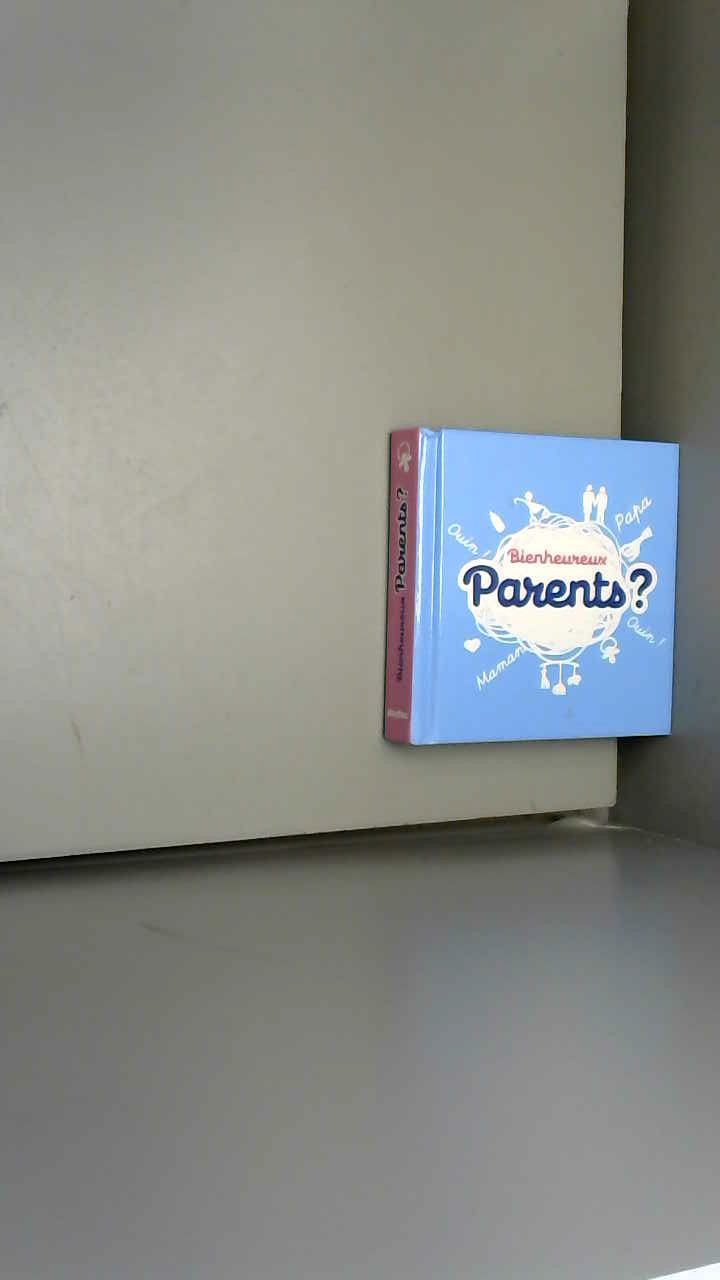book: (341, 382, 713, 790)
